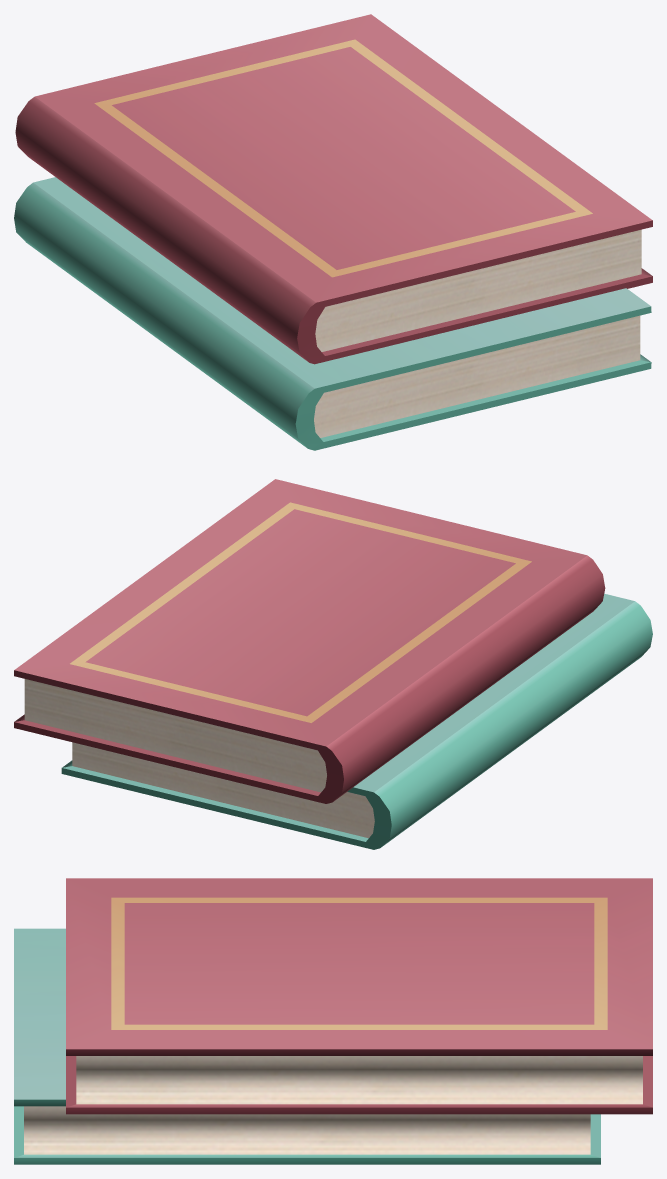
The model's file is Doll_OB_Book_1.fbx.
The picture shows the model from 3 angles, top to bottom: view 1: azimuth 30°, elevation 25°; view 2: azimuth 150°, elevation 25°; view 3: azimuth 270°, elevation 25°; orthographic projection. The views are drawn at different scales.
Visible parts, largest first — view 1: Doll_OB_Book_1; view 2: Doll_OB_Book_1; view 3: Doll_OB_Book_1.
Part boxes in pixels (x1=…): Doll_OB_Book_1: x1=14, y1=14, x2=652, y2=450; Doll_OB_Book_1: x1=14, y1=479, x2=652, y2=849; Doll_OB_Book_1: x1=14, y1=878, x2=652, y2=1164.
Bounding box in the file's own units: 12.96 × 4 × 18.
